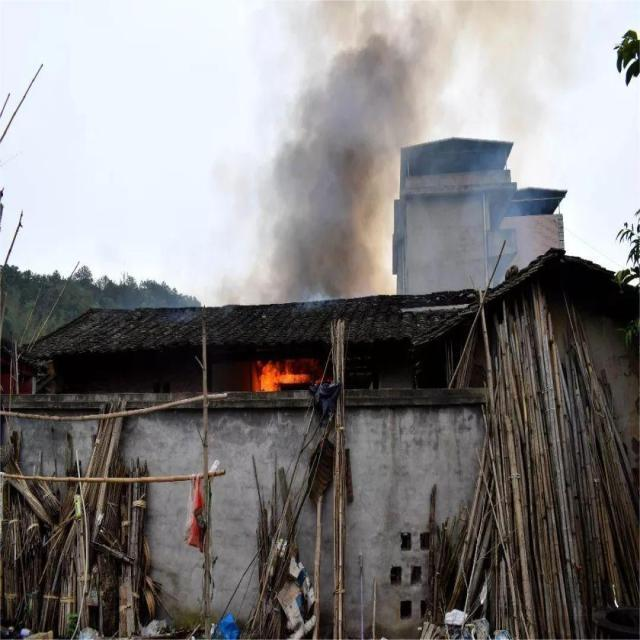Fire: (251, 358, 322, 392)
Smoke: (235, 0, 397, 305)
